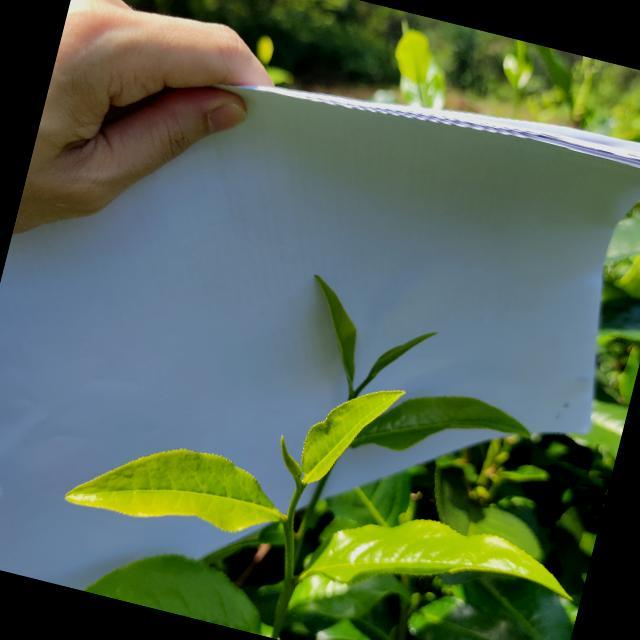Stem: (282, 517, 292, 526), (349, 392, 356, 397)
